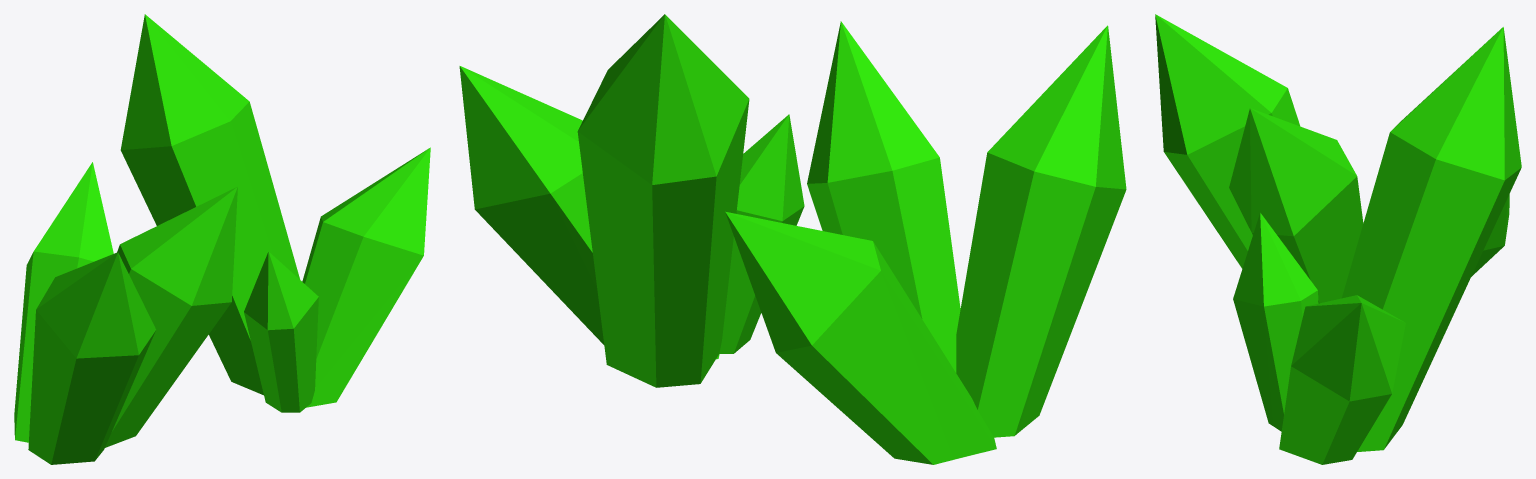
File: cave_crystal2.glb
The picture shows the model from 3 angles, left to right: view 1: azimuth 30°, elevation 25°; view 2: azimuth 150°, elevation 25°; view 3: azimuth 270°, elevation 25°; orthographic projection. The views are drawn at different scales.
Parts seen in each view (by area): view 1: Crystal-02-col; view 2: Crystal-02-col; view 3: Crystal-02-col.
Part boxes in pixels (x1,y1,x2,y2): Crystal-02-col: (14,14,430,464); Crystal-02-col: (459,14,1126,464); Crystal-02-col: (1155,14,1521,464).
Bounding box in the file's own units: 1.54 × 1.12 × 0.9958.
